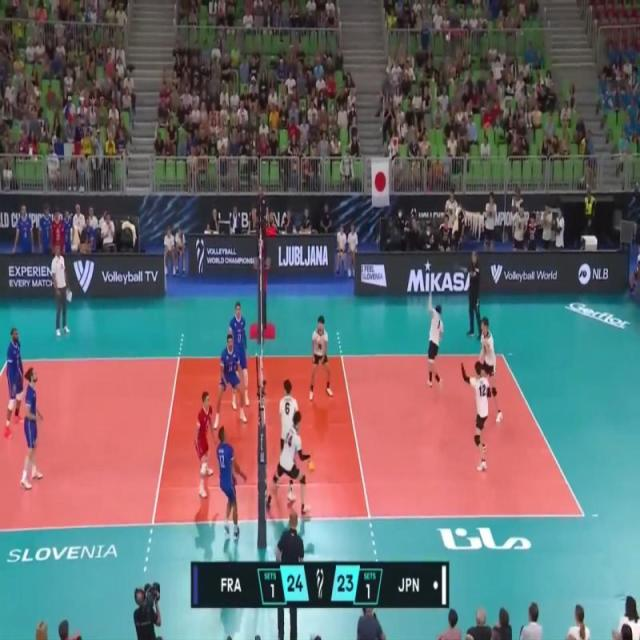volleyball: (306, 458, 315, 475)
